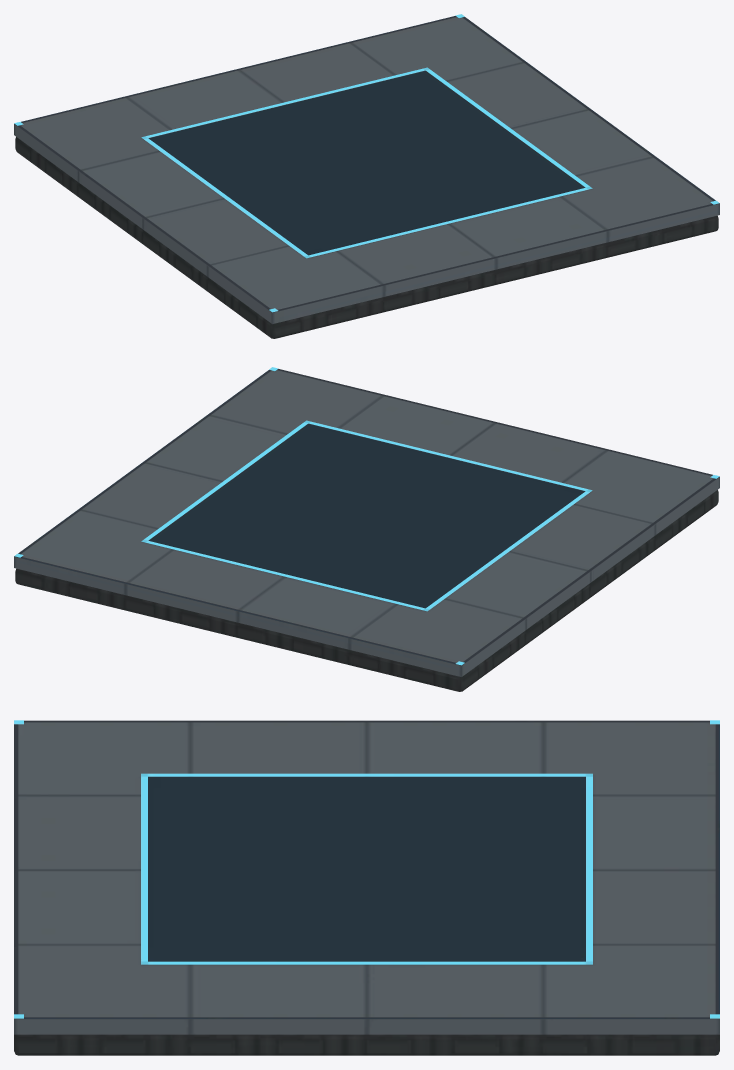
Rendered from hull_enterprise_hull_glass.glb.
3 views of the same model, one above another, from view 1: azimuth 30°, elevation 25°; view 2: azimuth 150°, elevation 25°; view 3: azimuth 270°, elevation 25° (orthographic). The views are drawn at different scales.
Visible parts, largest first — view 1: te_hull_enterprise_hull_glass; view 2: te_hull_enterprise_hull_glass; view 3: te_hull_enterprise_hull_glass.
Boxes of the visible parts, box(x1,y1,x2,y2) form: te_hull_enterprise_hull_glass: box(14, 14, 719, 338); te_hull_enterprise_hull_glass: box(14, 367, 719, 691); te_hull_enterprise_hull_glass: box(14, 720, 719, 1055).
Bounding box in the file's own units: 1 × 0.0618 × 1.
1 material, 1 textured.
